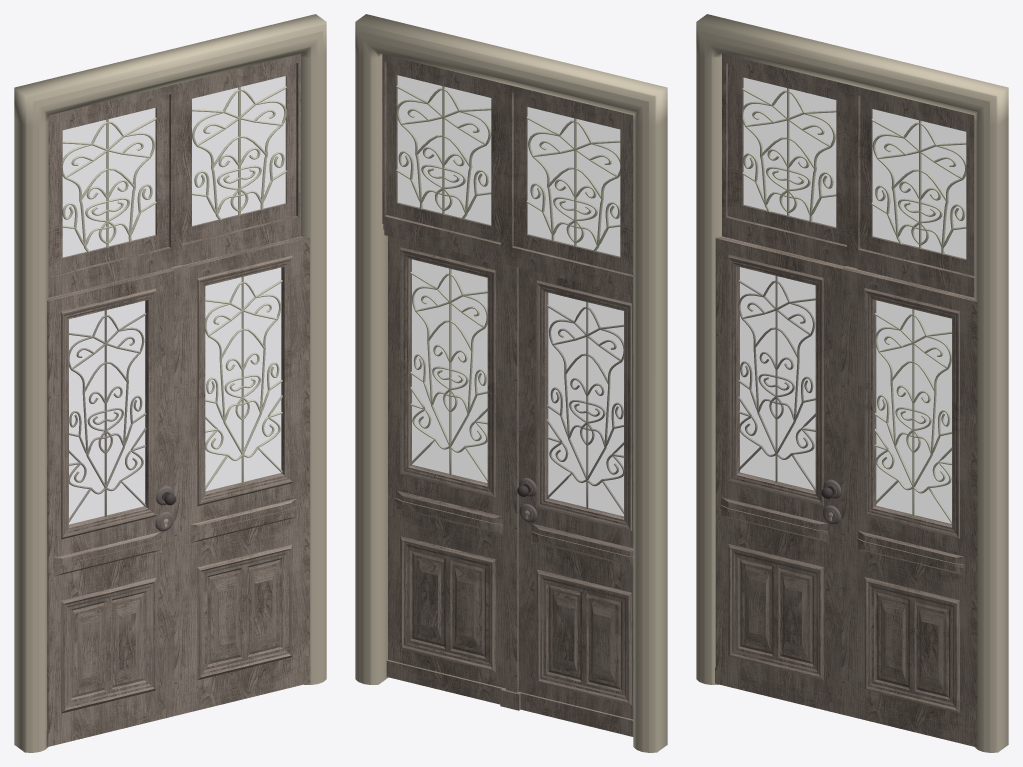
File: MansionDoor.glb
3 renders of one model, left to right at view 1: azimuth 30°, elevation 25°; view 2: azimuth 150°, elevation 25°; view 3: azimuth 330°, elevation 25°, orthographic.
Parts seen in each view (by area): view 1: Cube.011, Classic wooden door, Cube.012, Cube.009, Cube.013, Cube.018, Cube.019, Plane.001, Plane, Plane.002, Door.005; view 2: Classic wooden door, Cube.011, Cube.012, Cube.009, Cube.013, Cube.019, Cube.018, Plane.001, Plane, Plane.002, Door.005; view 3: Cube.011, Classic wooden door, Cube.012, Cube.009, Cube.013, Cube.018, Cube.019, Plane.001, Plane, Plane.002, Door.005.
Part boxes in pixels (x1=…): Cube.011: x1=170, y1=236, x2=310, y2=716; Classic wooden door: x1=14, y1=14, x2=326, y2=752; Cube.012: x1=46, y1=268, x2=174, y2=746; Cube.009: x1=48, y1=54, x2=300, y2=297; Cube.013: x1=63, y1=76, x2=285, y2=257; Cube.018: x1=69, y1=301, x2=145, y2=524; Cube.019: x1=205, y1=267, x2=281, y2=491; Plane.001: x1=62, y1=86, x2=286, y2=252; Plane: x1=205, y1=276, x2=282, y2=489; Plane.002: x1=69, y1=310, x2=146, y2=522; Door.005: x1=155, y1=486, x2=175, y2=531; Classic wooden door: x1=355, y1=14, x2=667, y2=752; Cube.011: x1=386, y1=236, x2=520, y2=710; Cube.012: x1=518, y1=268, x2=633, y2=736; Cube.009: x1=382, y1=54, x2=633, y2=295; Cube.013: x1=397, y1=75, x2=619, y2=256; Cube.019: x1=411, y1=259, x2=487, y2=483; Cube.018: x1=547, y1=293, x2=623, y2=516; Plane.001: x1=396, y1=85, x2=620, y2=251; Plane: x1=410, y1=268, x2=487, y2=481; Plane.002: x1=546, y1=302, x2=623, y2=513; Door.005: x1=517, y1=478, x2=537, y2=522; Cube.011: x1=838, y1=266, x2=977, y2=747; Classic wooden door: x1=696, y1=14, x2=1008, y2=752; Cube.012: x1=715, y1=236, x2=845, y2=713; Cube.009: x1=722, y1=54, x2=974, y2=297; Cube.013: x1=743, y1=77, x2=965, y2=259; Cube.018: x1=739, y1=267, x2=815, y2=491; Cube.019: x1=875, y1=300, x2=951, y2=524; Plane.001: x1=742, y1=88, x2=966, y2=254; Plane: x1=874, y1=309, x2=951, y2=523; Plane.002: x1=738, y1=276, x2=815, y2=491; Door.005: x1=821, y1=479, x2=841, y2=524.
Bounding box in the file's own units: 1.47 × 3.05 × 0.1961.
Materials: 8 (1 with a texture image).
